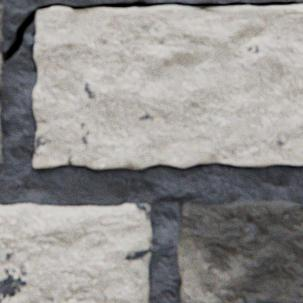brick: (33, 4, 302, 168), (177, 200, 302, 302), (0, 4, 3, 89), (0, 99, 2, 162)
broken_brick: (0, 203, 152, 302)
crack: (2, 0, 301, 62)
